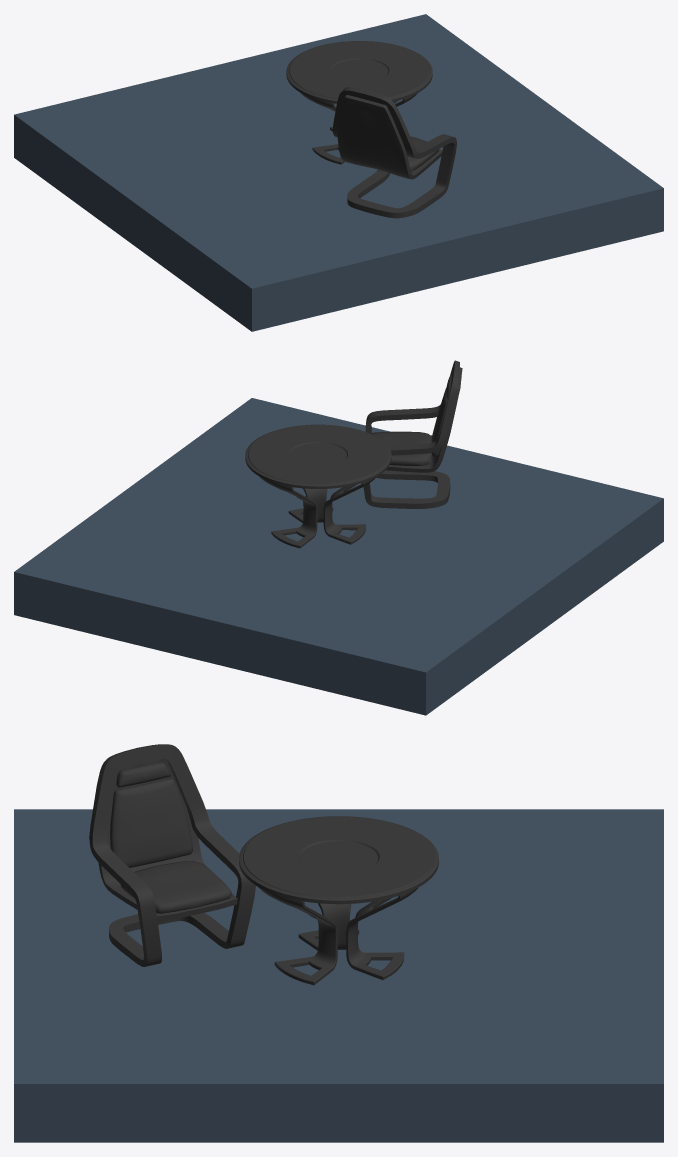
File: StageAttempt.fbx
The picture shows the model from 3 angles, top to bottom: view 1: azimuth 30°, elevation 25°; view 2: azimuth 150°, elevation 25°; view 3: azimuth 270°, elevation 25°; orthographic projection. The views are drawn at different scales.
Parts seen in each view (by area): view 1: Floor_14, Chair, Table; view 2: Floor_14, Table, Chair; view 3: Floor_14, Chair, Table.
Part boxes in pixels (box(x1,y1,x2,y2)): Floor_14: box(14, 14, 663, 331); Chair: box(332, 87, 456, 218); Table: box(286, 41, 432, 164); Floor_14: box(14, 398, 663, 715); Table: box(245, 424, 391, 548); Chair: box(363, 360, 462, 508); Floor_14: box(14, 809, 663, 1142); Chair: box(89, 744, 255, 966); Table: box(239, 816, 438, 985).
Size of what is drawn, in the model's own units: 400 by 400 by 155.
